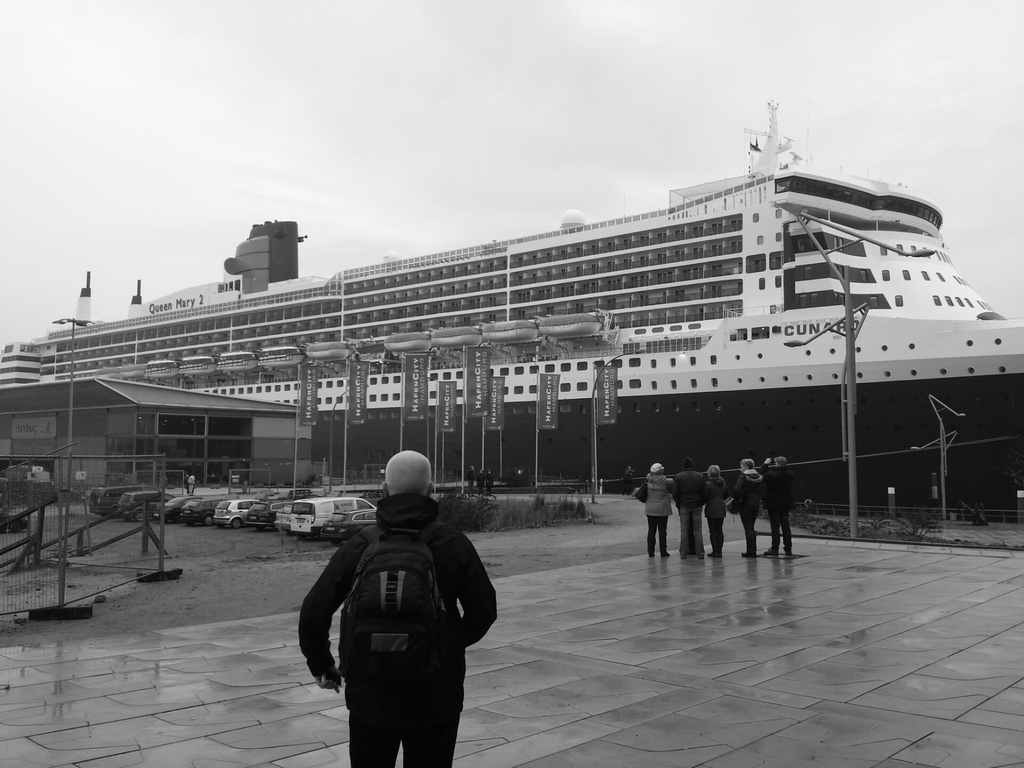boat: (1, 94, 1020, 525)
